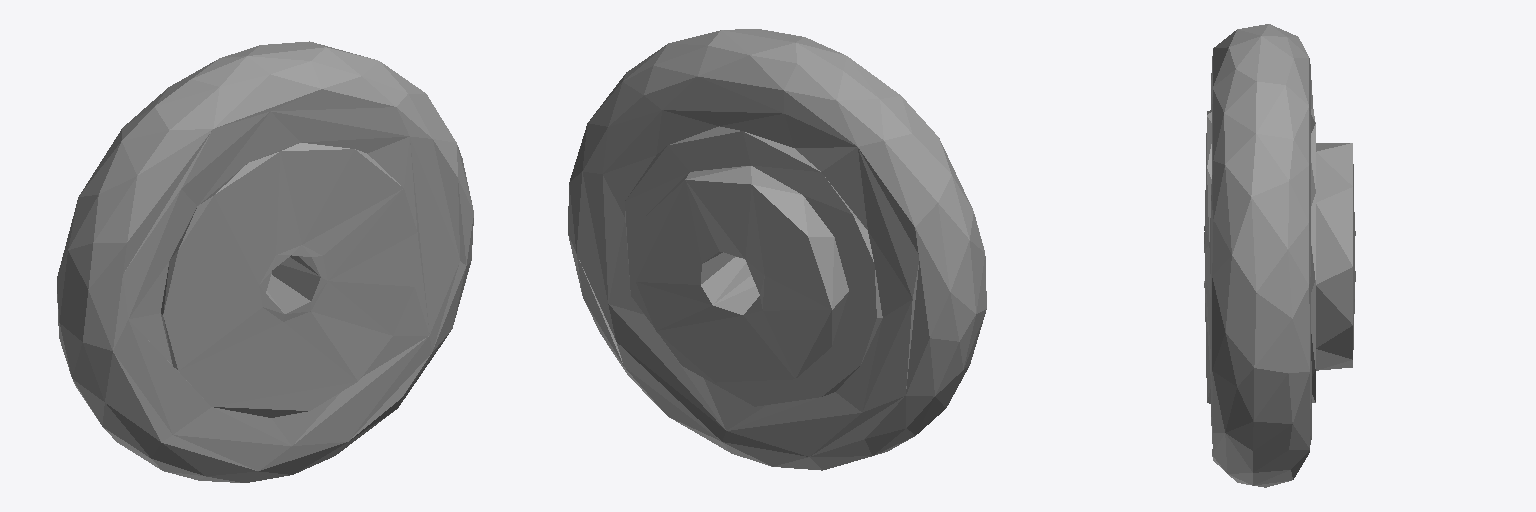
The model's file is fl_caster_r_wheel_link.OBJ.
The picture shows the model from 3 angles: view 1: azimuth 30°, elevation 25°; view 2: azimuth 150°, elevation 25°; view 3: azimuth 270°, elevation 25°; orthographic projection.
Visible parts, largest first — view 1: /ambf/env/pr2/fl_caster_r_wheel_link_/ambf/env/pr2/fl_caster_r_w; view 2: /ambf/env/pr2/fl_caster_r_wheel_link_/ambf/env/pr2/fl_caster_r_w; view 3: /ambf/env/pr2/fl_caster_r_wheel_link_/ambf/env/pr2/fl_caster_r_w.
Boxes of the visible parts, x1=… form: /ambf/env/pr2/fl_caster_r_wheel_link_/ambf/env/pr2/fl_caster_r_w: x1=57, y1=41, x2=473, y2=482; /ambf/env/pr2/fl_caster_r_wheel_link_/ambf/env/pr2/fl_caster_r_w: x1=568, y1=29, x2=986, y2=470; /ambf/env/pr2/fl_caster_r_wheel_link_/ambf/env/pr2/fl_caster_r_w: x1=1204, y1=24, x2=1355, y2=487.
Bounding box in the file's own units: 0.1593 × 0.1588 × 0.0515.